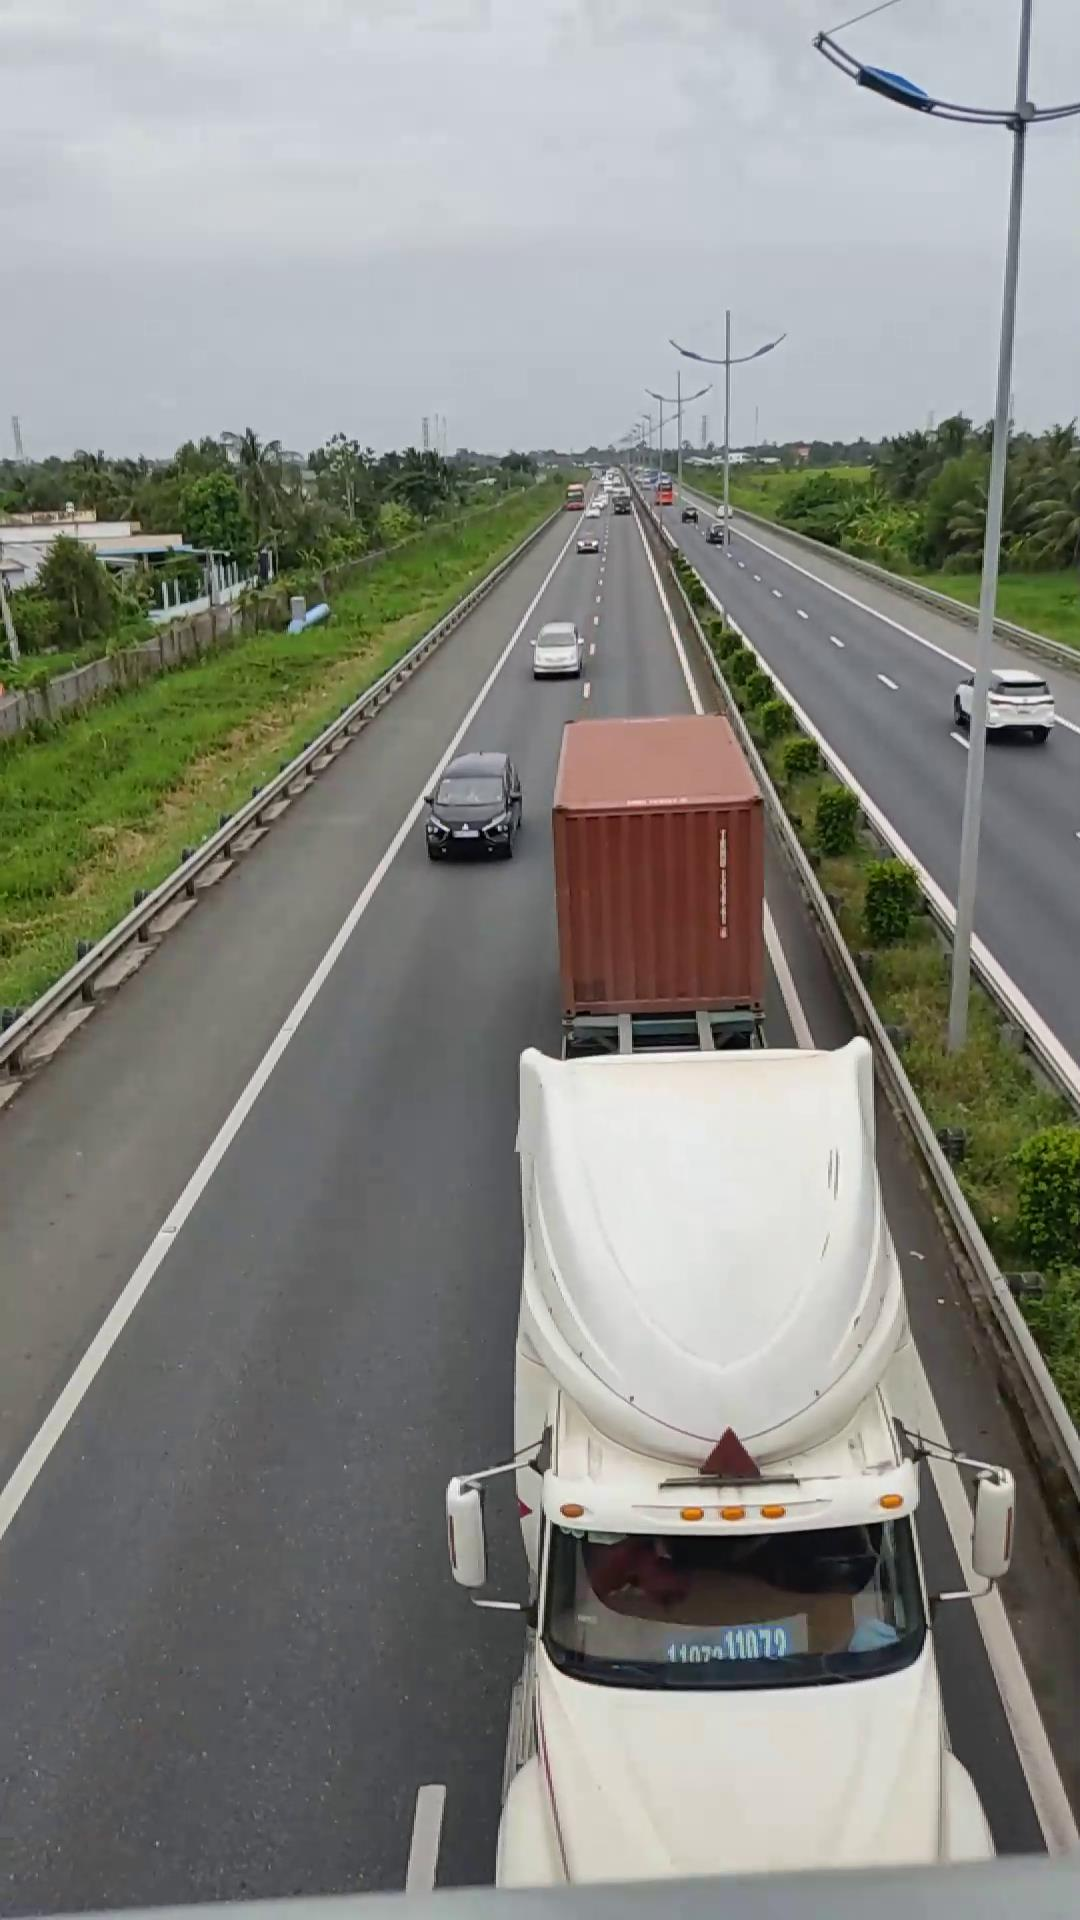car: (423, 749, 525, 858), (953, 665, 1055, 742)
container: (485, 708, 980, 1900)
